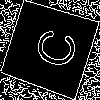C: (24, 23, 80, 72)
